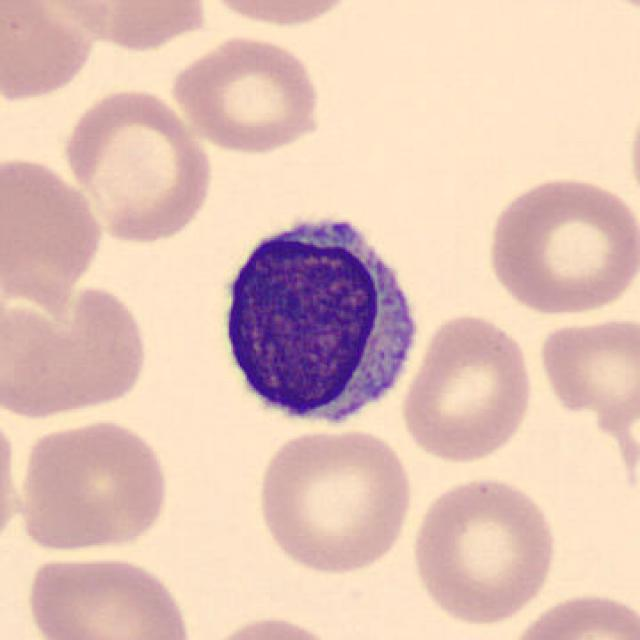Lymphocyte: (204, 201, 428, 437)
RBC: (59, 83, 217, 247), (252, 423, 416, 577), (407, 472, 562, 628), (482, 171, 636, 319), (12, 414, 172, 556), (1, 278, 154, 425), (398, 308, 539, 466), (167, 30, 325, 157), (0, 150, 107, 305), (23, 550, 197, 640), (534, 312, 638, 427), (0, 0, 100, 106), (39, 0, 212, 53), (503, 587, 638, 640), (194, 0, 364, 32), (192, 612, 348, 640), (0, 404, 25, 559)
